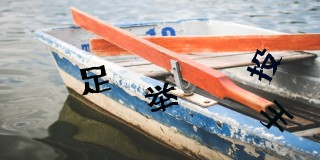举: (145, 82, 180, 113)
手: (258, 100, 292, 132)
投: (246, 48, 282, 81)
足: (78, 64, 115, 96)
